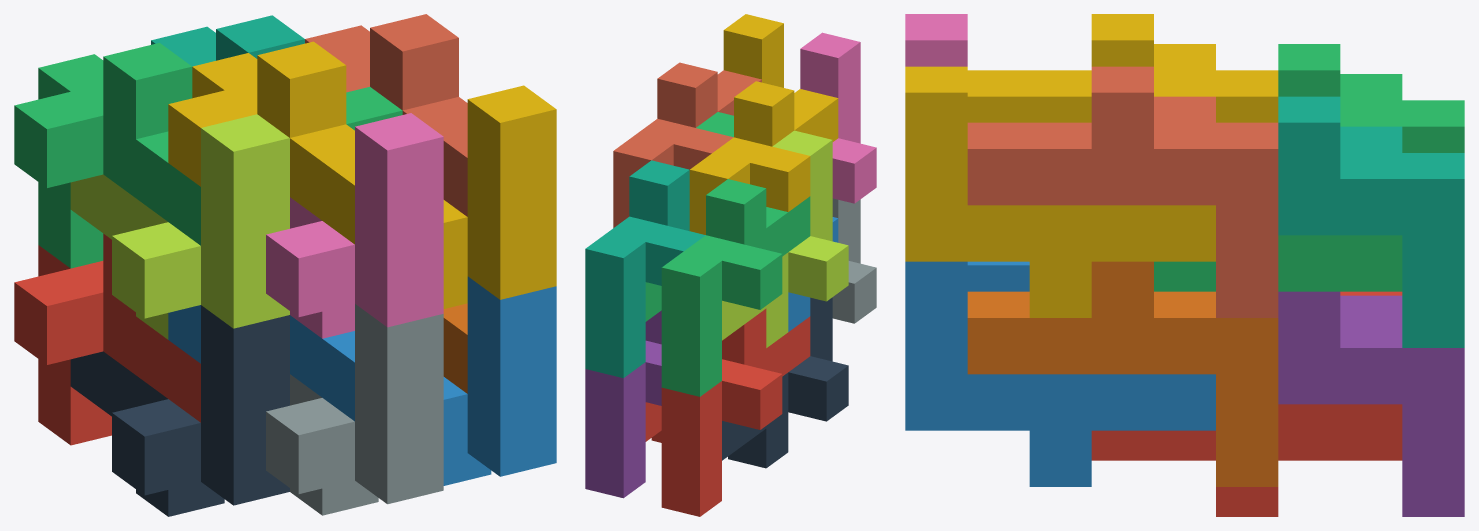
The model's file is tiling.obj.
3 views of the same model, side by side, from view 1: azimuth 30°, elevation 25°; view 2: azimuth 150°, elevation 25°; view 3: azimuth 270°, elevation 25° (orthographic). The views are drawn at different scales.
Visible parts, largest first — view 1: copy_2_domain_3, copy_2_domain_4, copy_2_domain_1, copy_1_domain_3, copy_2_domain_2, copy_2_domain_8, copy_1_domain_4, copy_2_domain_6, copy_1_domain_1, copy_1_domain_8, copy_1_domain_2, copy_1_domain_7 (+2 smaller); view 2: copy_1_domain_3, copy_1_domain_1, copy_1_domain_7, copy_1_domain_4, copy_1_domain_8, copy_1_domain_5, copy_2_domain_3, copy_2_domain_1, copy_2_domain_4, copy_2_domain_8, copy_2_domain_2, copy_2_domain_7 (+2 smaller); view 3: copy_1_domain_8, copy_1_domain_6, copy_2_domain_8, copy_2_domain_6, copy_1_domain_7, copy_1_domain_5, copy_1_domain_4, copy_2_domain_5, copy_1_domain_3, copy_2_domain_7, copy_2_domain_4, copy_1_domain_2.
Part boxes in pixels (x1,y1,x2,y2): copy_2_domain_3: (70,114,289,339); copy_2_domain_4: (266,113,443,338); copy_2_domain_1: (70,305,289,516); copy_1_domain_3: (14,43,200,268); copy_2_domain_2: (266,304,443,515); copy_2_domain_8: (443,85,556,308); copy_1_domain_4: (168,41,354,244); copy_2_domain_6: (443,276,556,485); copy_1_domain_1: (14,233,200,445); copy_1_domain_8: (305,14,467,216); copy_1_domain_2: (168,305,354,421); copy_1_domain_7: (151,15,304,66); copy_1_domain_3: (661,179,810,396); copy_1_domain_1: (661,308,810,516); copy_1_domain_7: (585,160,705,378); copy_1_domain_4: (689,81,838,234); copy_1_domain_8: (613,62,761,227); copy_1_domain_5: (585,310,661,498); copy_2_domain_3: (722,130,848,347); copy_2_domain_1: (722,297,848,468); copy_2_domain_4: (800,32,876,203); copy_2_domain_8: (723,14,783,87); copy_2_domain_2: (832,198,876,323); copy_2_domain_7: (645,112,733,321); copy_1_domain_8: (967,66,1278,317); copy_1_domain_6: (967,261,1278,486); copy_2_domain_8: (905,66,1215,317); copy_2_domain_6: (905,261,1215,486); copy_1_domain_7: (1278,96,1464,347); copy_1_domain_5: (1278,291,1464,516); copy_1_domain_4: (967,14,1278,122); copy_2_domain_5: (1091,404,1402,516); copy_1_domain_3: (1278,44,1464,152); copy_2_domain_7: (1154,235,1402,291); copy_2_domain_4: (905,14,967,66); copy_1_domain_2: (967,261,1029,291).
Size of the model in its own units: 5 by 8 by 9.
